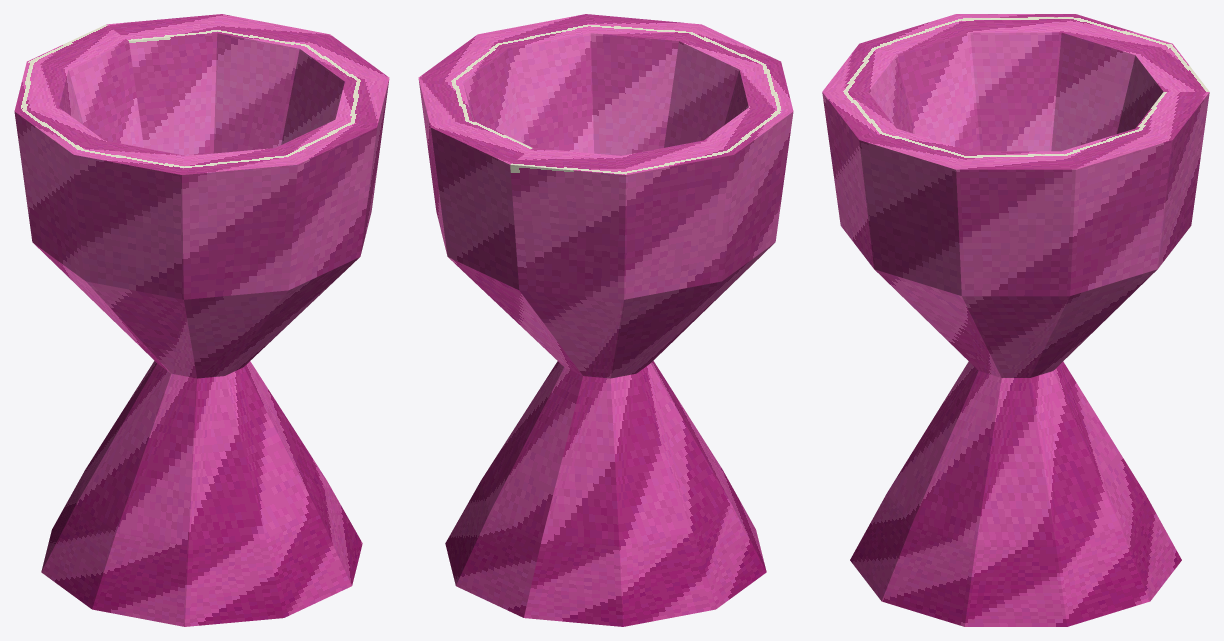
Rendered from reliquia_sagrada_09.glb.
The picture shows the model from 3 angles, left to right: view 1: azimuth 30°, elevation 25°; view 2: azimuth 150°, elevation 25°; view 3: azimuth 270°, elevation 25°; orthographic projection.
Visible parts, largest first — view 1: reliquia_sagrada_09; view 2: reliquia_sagrada_09; view 3: reliquia_sagrada_09.
Part boxes in pixels (<box>): reliquia_sagrada_09: <box>14,14,389,626</box>; reliquia_sagrada_09: <box>418,14,793,626</box>; reliquia_sagrada_09: <box>822,14,1209,626</box>.
Size of the model in its own units: 0.3994 by 0.56 by 0.42.
Materials: 1 (1 with a texture image).
